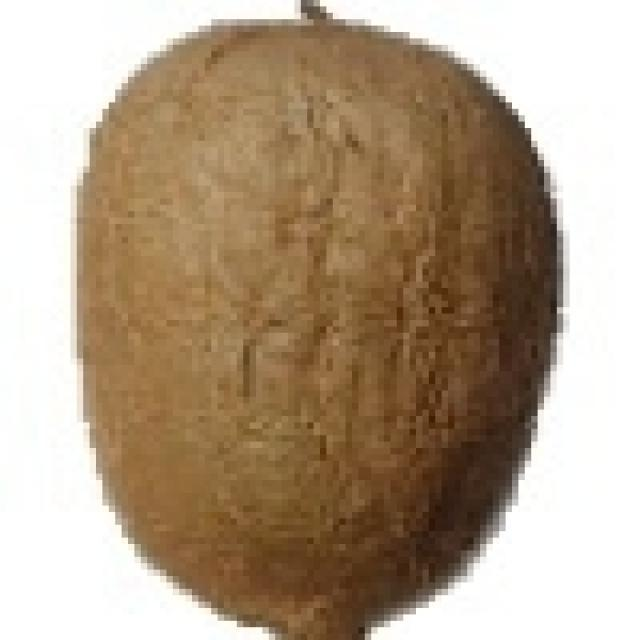kiwi: (70, 13, 544, 627)
